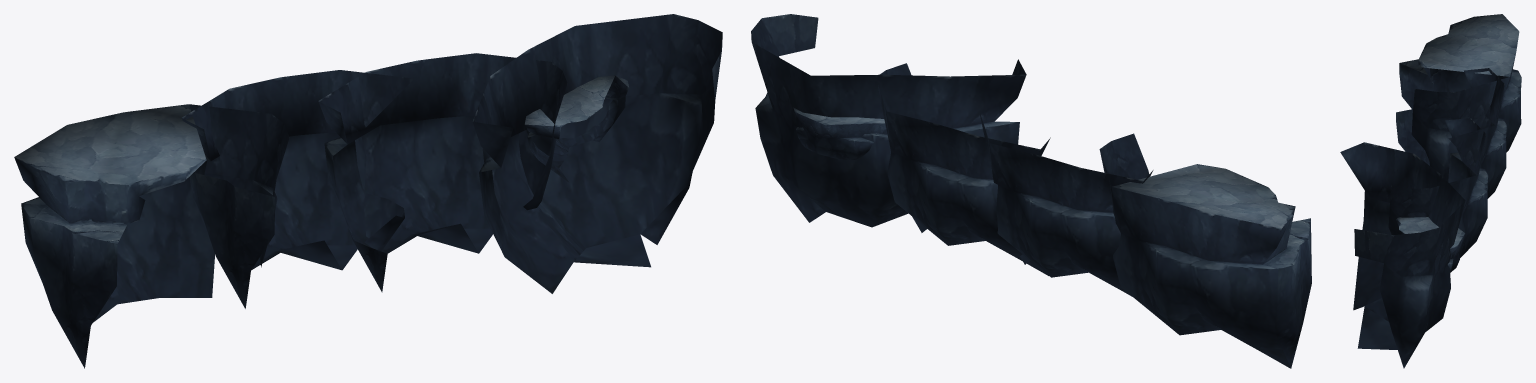
File: Area_13_4.fbx
3 renders of one model, left to right at view 1: azimuth 30°, elevation 25°; view 2: azimuth 150°, elevation 25°; view 3: azimuth 270°, elevation 25°, orthographic. The views are drawn at different scales.
Visible parts, largest first — view 1: Area_13_4; view 2: Area_13_4; view 3: Area_13_4.
Boxes of the visible parts, x1,y1,x2,y2 form: Area_13_4: (14,14,722,368); Area_13_4: (751,14,1311,368); Area_13_4: (1340,14,1521,368).
Size of the model in its own units: 13596 by 4322 by 4392.
